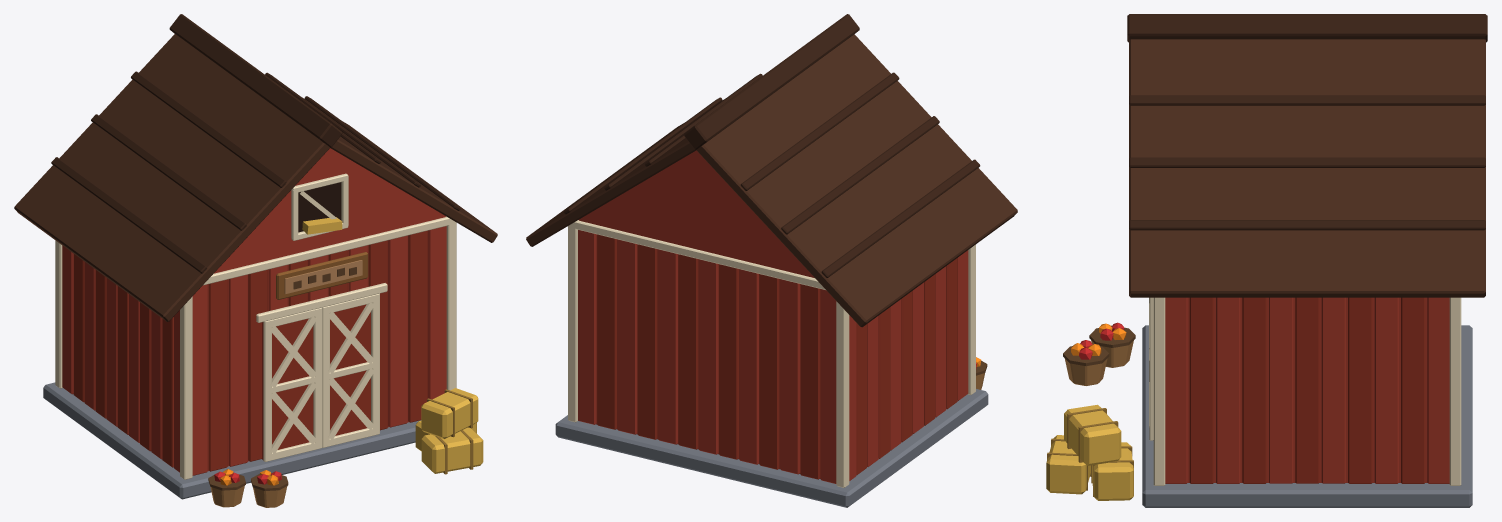
File: granary.glb
3 renders of one model, left to right at view 1: azimuth 30°, elevation 25°; view 2: azimuth 150°, elevation 25°; view 3: azimuth 270°, elevation 25°, orthographic. The views are drawn at different scales.
Parts seen in each view (by area): view 1: granary; view 2: granary; view 3: granary.
Boxes of the visible parts, x1=… form: granary: x1=14, y1=14, x2=497, y2=507; granary: x1=526, y1=14, x2=1017, y2=507; granary: x1=1046, y1=14, x2=1487, y2=507.
Size of the model in its own units: 6.95 by 6.87 by 6.68.
